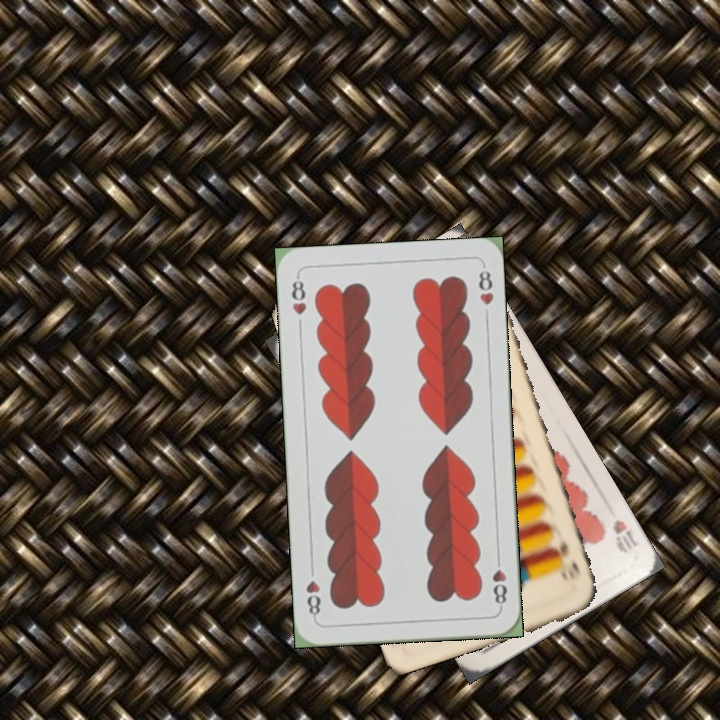E10: (551, 536, 584, 583)
H10: (608, 515, 642, 556)
H8: (488, 552, 509, 611), (288, 272, 309, 318)
